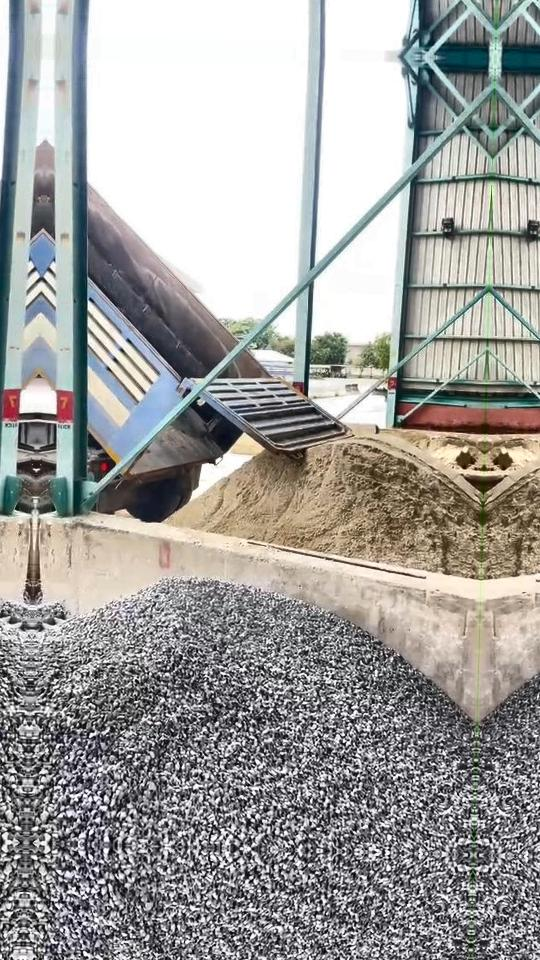gravel: (30, 579, 474, 855), (31, 602, 66, 640)
sand: (168, 432, 483, 577), (414, 437, 484, 470)
